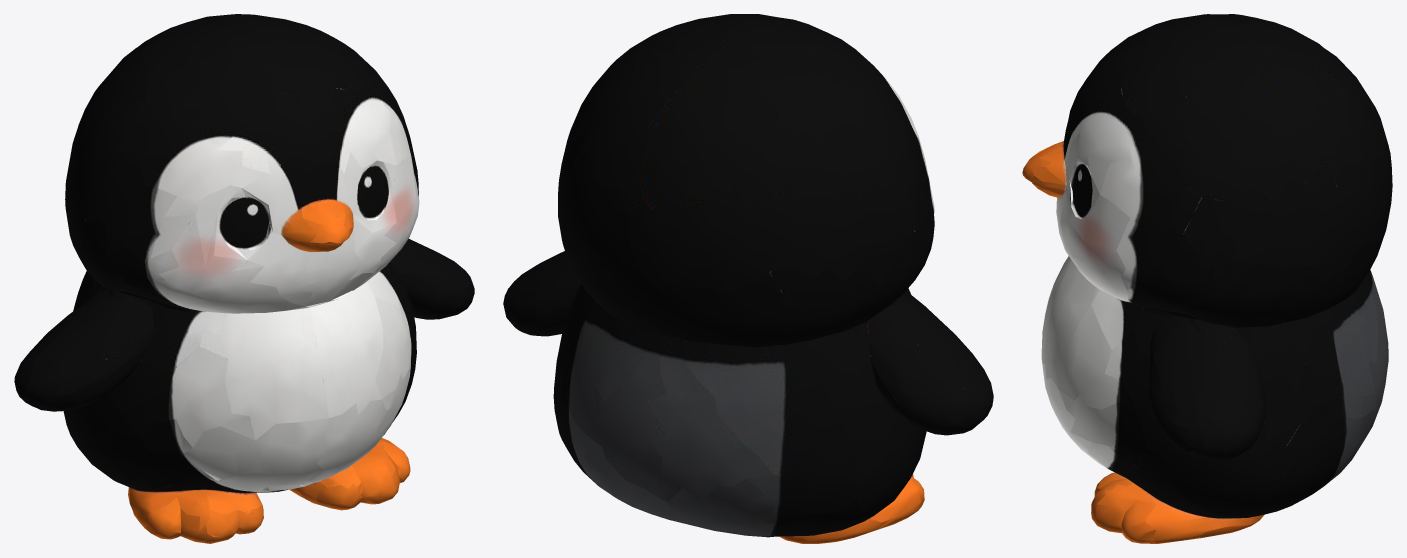
File: sne-pingvin.glb
3 views of the same model, side by side, from view 1: azimuth 30°, elevation 25°; view 2: azimuth 150°, elevation 25°; view 3: azimuth 270°, elevation 25° (orthographic). The views are drawn at different scales.
Size of the model in its own units: 1.9 by 1.82 by 1.35.
Materials: 1 (1 with a texture image).
